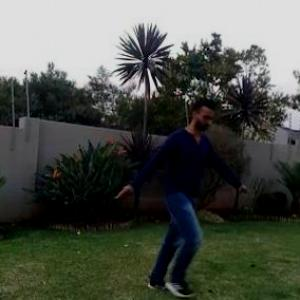land: (88, 80, 264, 299)
